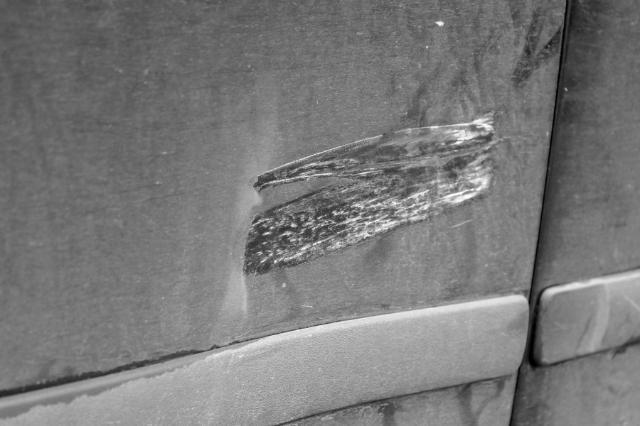Door: (202, 70, 495, 376)
